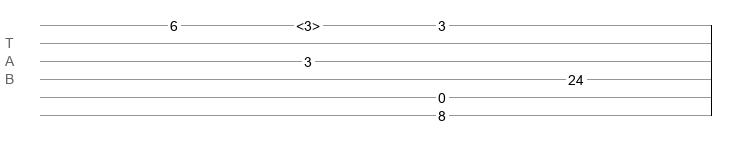0: (438, 90, 446, 100)
24: (568, 72, 584, 82)
3: (304, 54, 312, 64), (438, 18, 446, 28)
6: (170, 18, 178, 28)
8: (438, 108, 446, 118)
harmonic: (296, 18, 320, 28)
